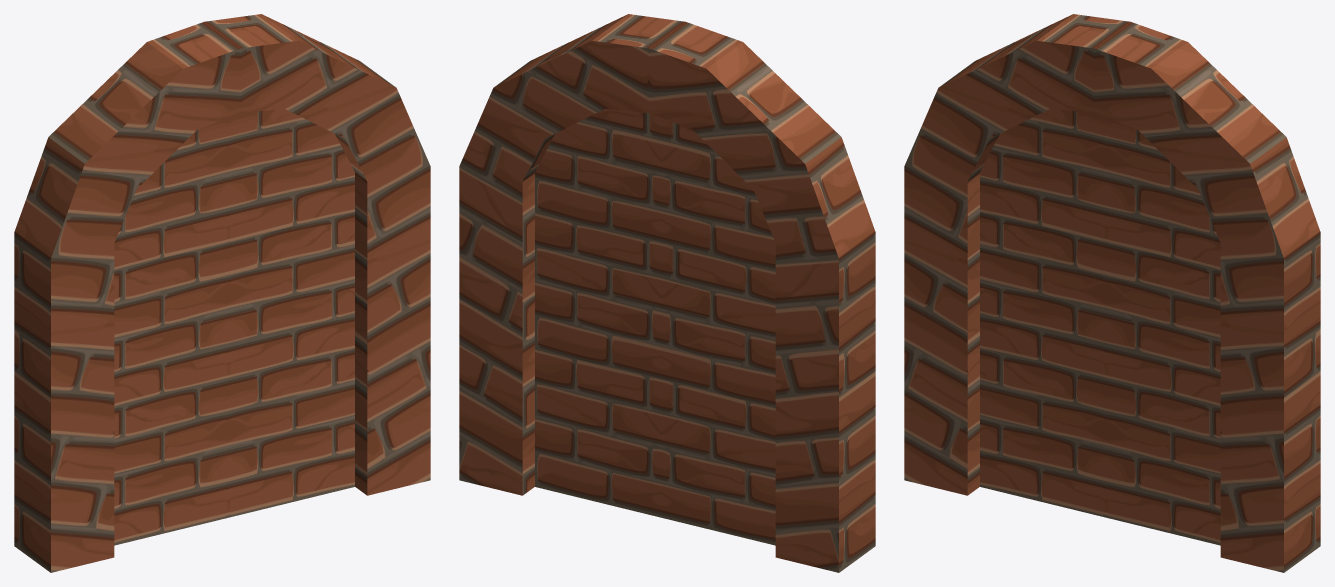
File: doorway_01.glb
The picture shows the model from 3 angles, left to right: view 1: azimuth 30°, elevation 25°; view 2: azimuth 150°, elevation 25°; view 3: azimuth 330°, elevation 25°; orthographic projection.
Parts seen in each view (by area): view 1: doorway_01, door_01; view 2: doorway_01, door_01; view 3: doorway_01, door_01.
Boxes of the visible parts, <box> form: doorway_01: <box>14,14,430,572</box>; door_01: <box>114,108,354,545</box>; doorway_01: <box>459,14,875,572</box>; door_01: <box>535,108,775,545</box>; doorway_01: <box>904,14,1320,572</box>; door_01: <box>980,108,1220,545</box>.
Bounding box in the file's own units: 12 × 14.44 × 2.
Materials: 1 (1 with a texture image).
